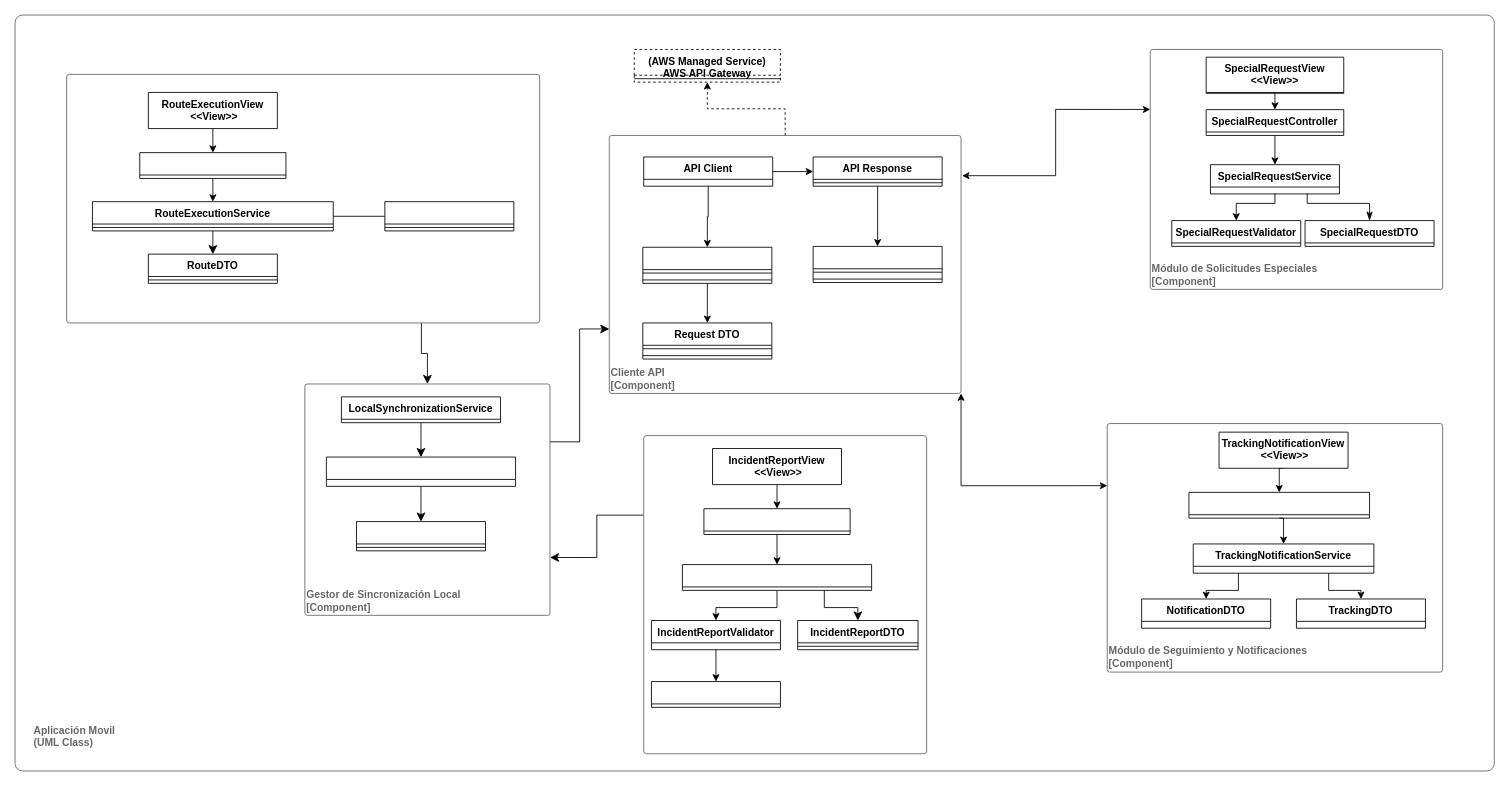
Some shapes in this 1509 by 786 pixel diagram are drawn without their labels. Each missing label, with the box of its shape:
API Request: (642, 246, 772, 283)
Incident Classifier: (651, 681, 780, 707)
IncidentReportController: (703, 508, 850, 534)
IncidentReportService: (682, 564, 872, 590)
Módulo de Ejecución de Ruta [Component]: (66, 74, 540, 323)
Módulo de Reporte de Incidentes [Component]: (643, 435, 927, 754)
Response DTO: (812, 246, 942, 283)
RouteExecutionController: (139, 152, 286, 178)
RouteValidator: (384, 201, 514, 231)
SyncDTO: (356, 521, 485, 551)
SynchronizationQueue: (326, 456, 516, 486)
TrackingNotificationController: (1188, 491, 1370, 518)
